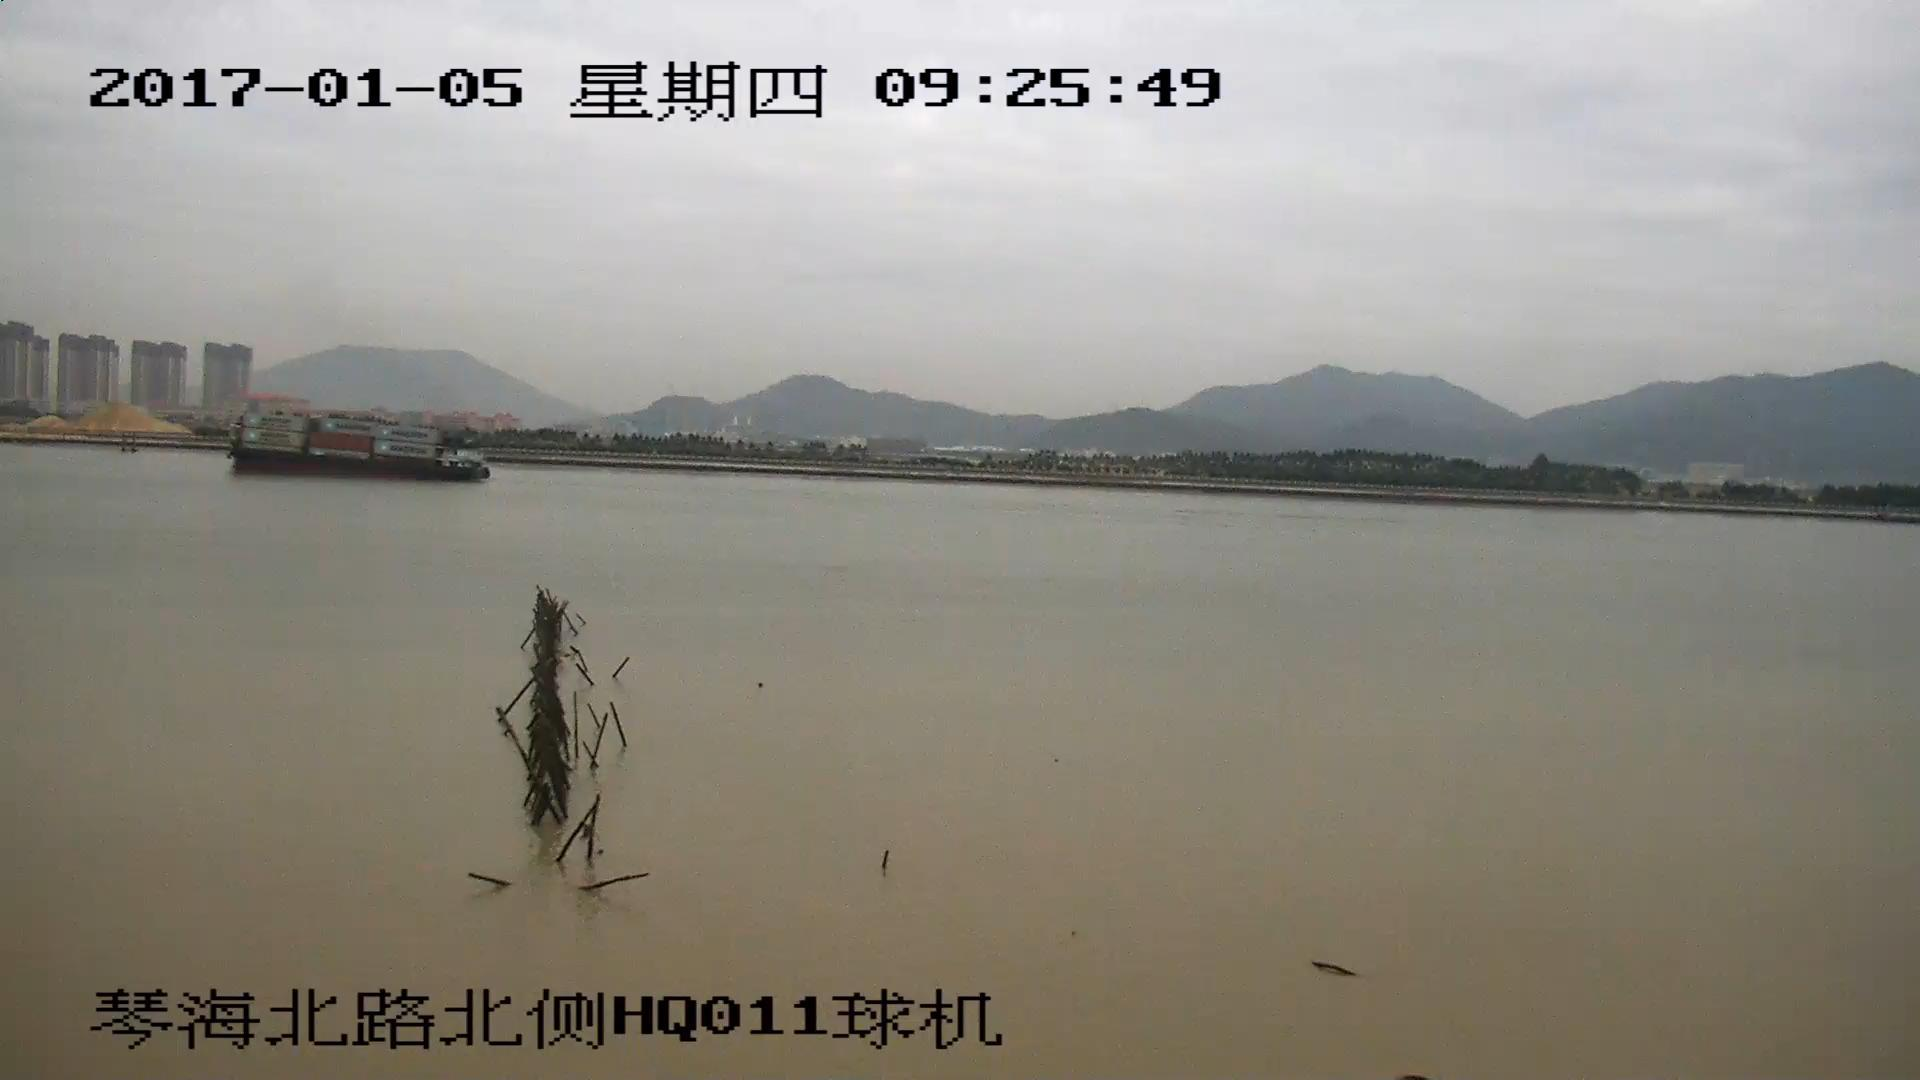Ship: (228, 411, 491, 480)
